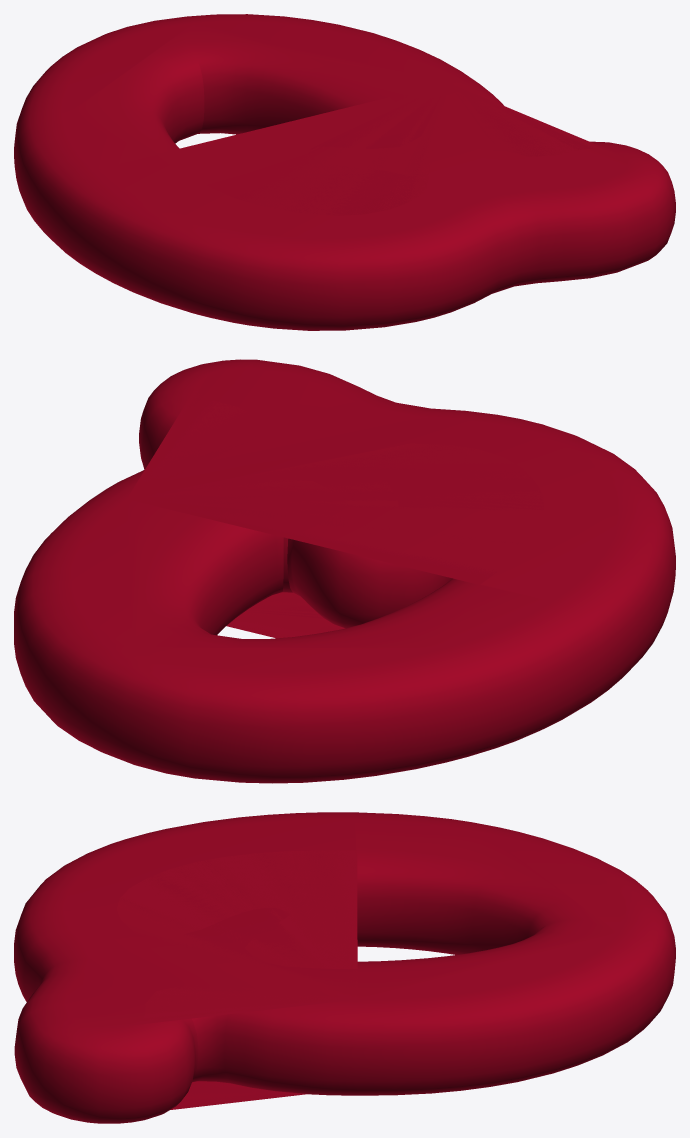
The picture shows the model from 3 angles, top to bottom: view 1: azimuth 30°, elevation 25°; view 2: azimuth 150°, elevation 25°; view 3: azimuth 270°, elevation 25°; orthographic projection. The views are drawn at different scales.
Visible parts, largest first — view 1: Curve.018; view 2: Curve.018; view 3: Curve.018.
Boxes of the visible parts, box(x1,y1,x2,y2) form: Curve.018: box(14, 14, 675, 330); Curve.018: box(14, 359, 675, 783); Curve.018: box(14, 812, 675, 1123).
Bounding box in the file's own units: 298 × 49.54 × 334.
Materials: 1 (1 with a texture image).
